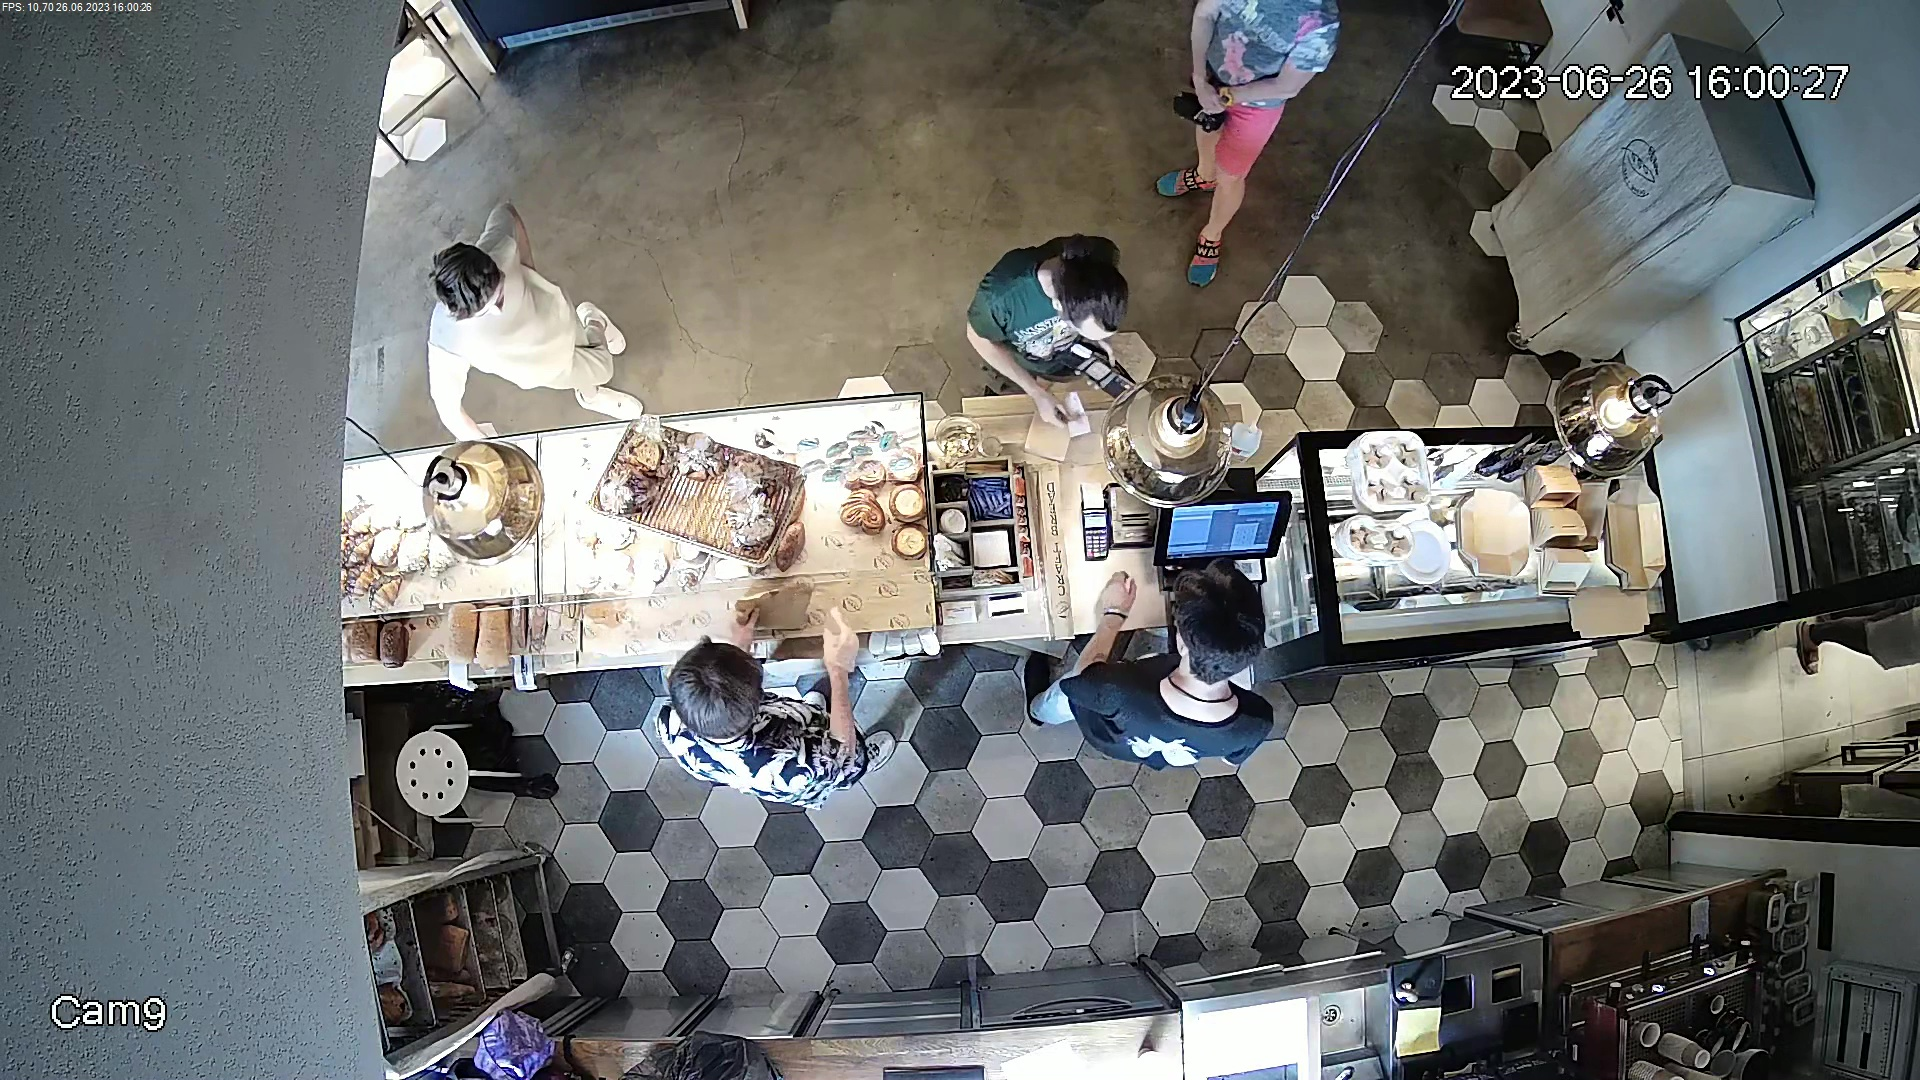barcounter: (336, 415, 1692, 650)
pack: (1025, 467, 1076, 641)
person: (396, 200, 653, 421), (936, 233, 1162, 418)
